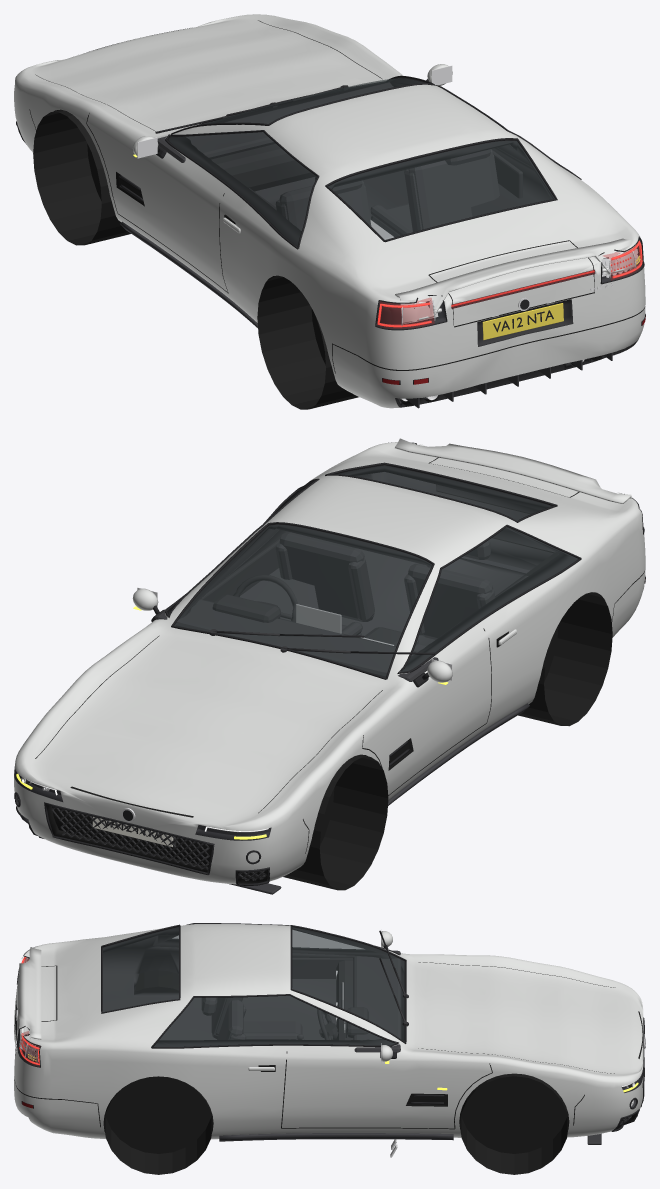
The model's file is vanta.glb.
3 views of the same model, one above another, from view 1: azimuth 30°, elevation 25°; view 2: azimuth 150°, elevation 25°; view 3: azimuth 270°, elevation 25° (orthographic). The views are drawn at different scales.
Visible parts, largest first — view 1: vanta; view 2: vanta; view 3: vanta.
Part boxes in pixels (box(x1,y1,x2,y2)): vanta: box(14, 14, 645, 409); vanta: box(14, 438, 645, 894); vanta: box(14, 923, 645, 1174).
Bounding box in the file's own units: 2.06 × 1.37 × 4.48.
